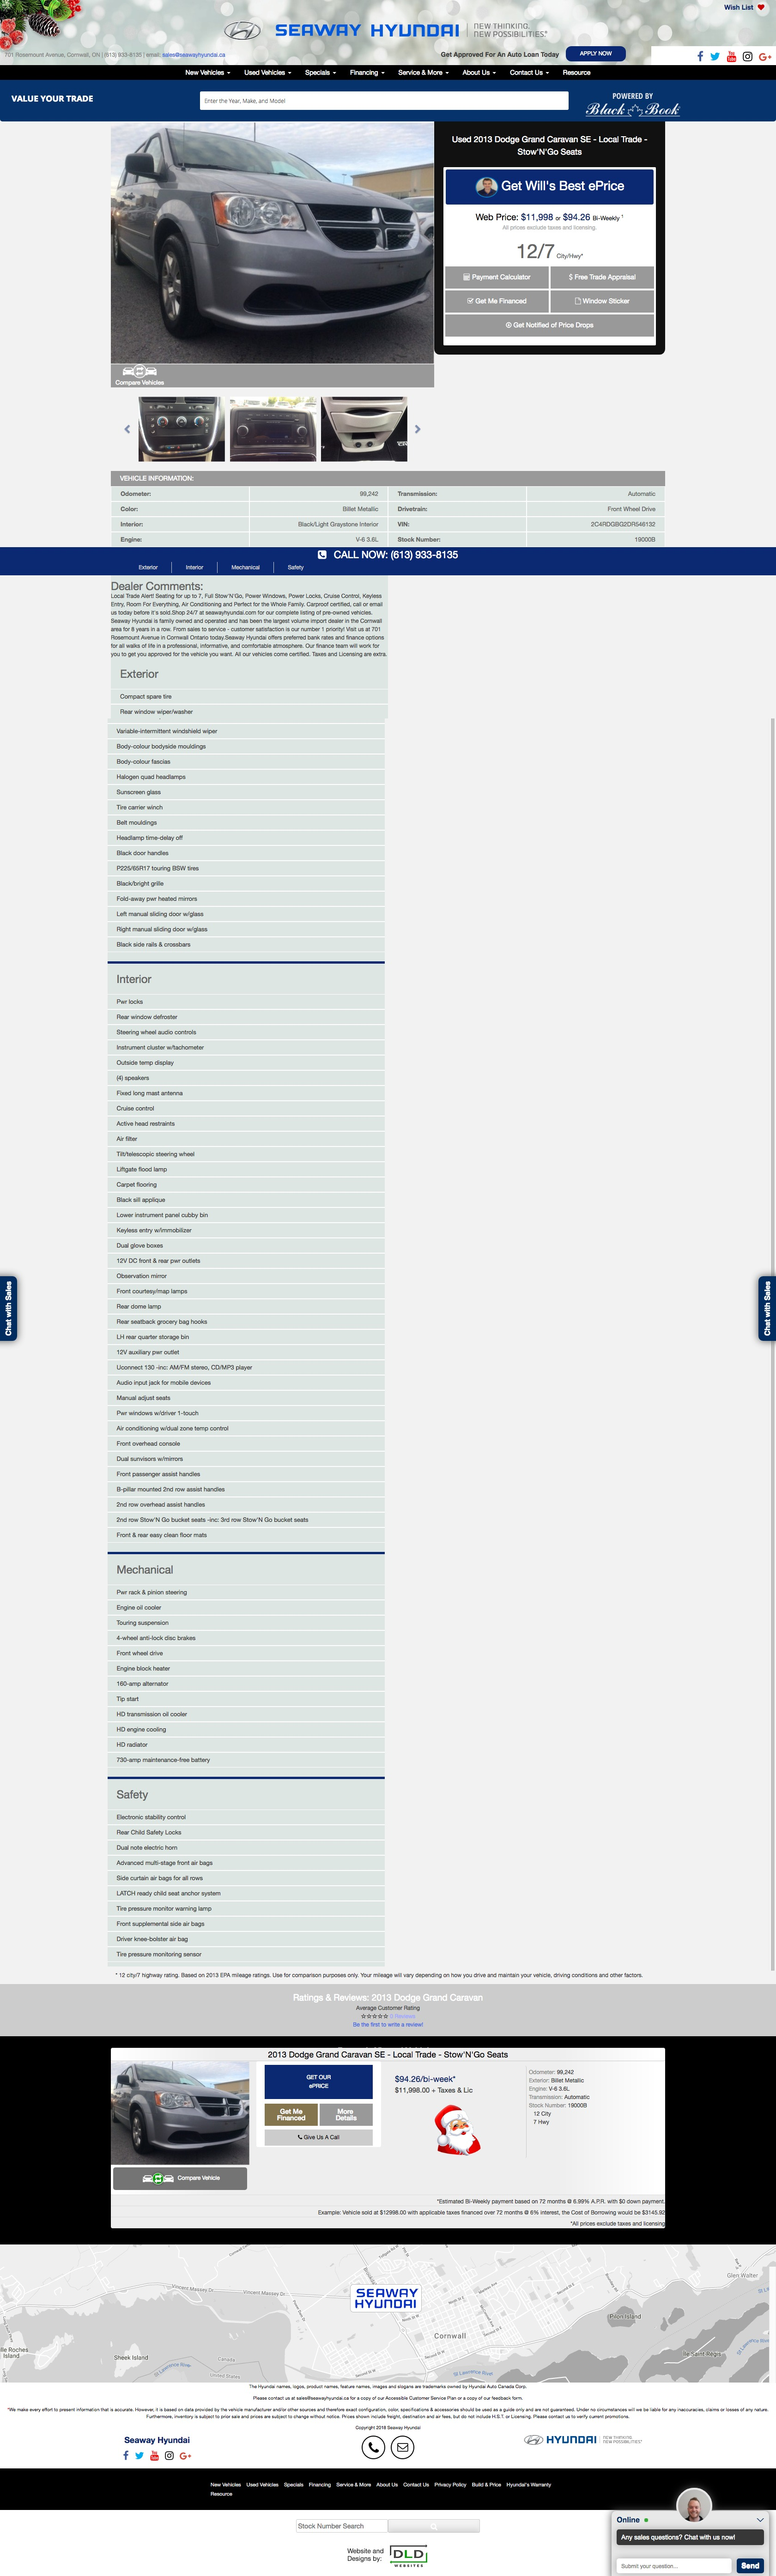car: (414, 424, 421, 434)
